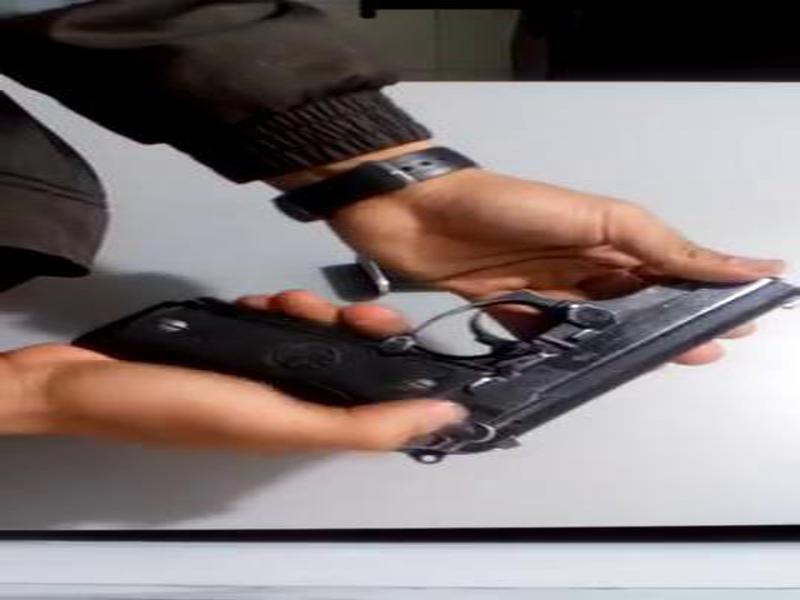Pistola: (72, 257, 800, 467)
